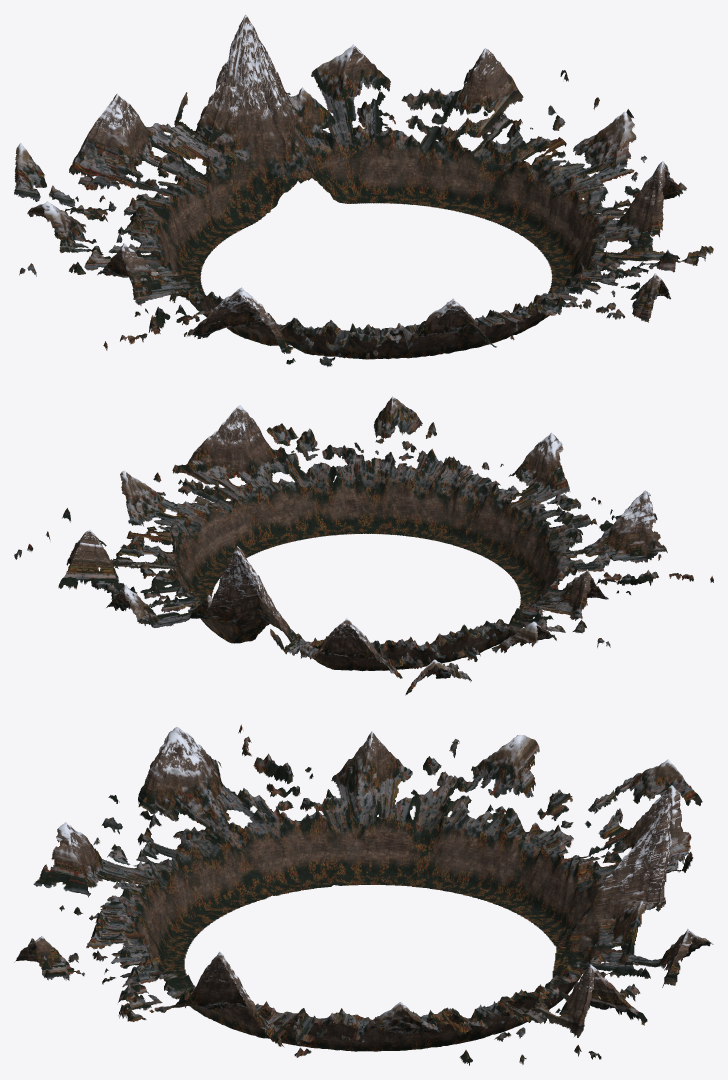
File: backdrop_mountain_ring_v5_autumn_far.glb
3 views of the same model, one above another, from view 1: azimuth 30°, elevation 25°; view 2: azimuth 150°, elevation 25°; view 3: azimuth 270°, elevation 25° (orthographic). The views are drawn at different scales.
Parts seen in each view (by area): view 1: backdrop_v5_far; view 2: backdrop_v5_far; view 3: backdrop_v5_far.
Part boxes in pixels (box(x1,y1,x2,y2)): backdrop_v5_far: box(14, 14, 713, 366); backdrop_v5_far: box(14, 396, 713, 695); backdrop_v5_far: box(14, 724, 713, 1065).
Size of the model in its own units: 3332 by 801 by 2984.
8 materials, 8 textured.
